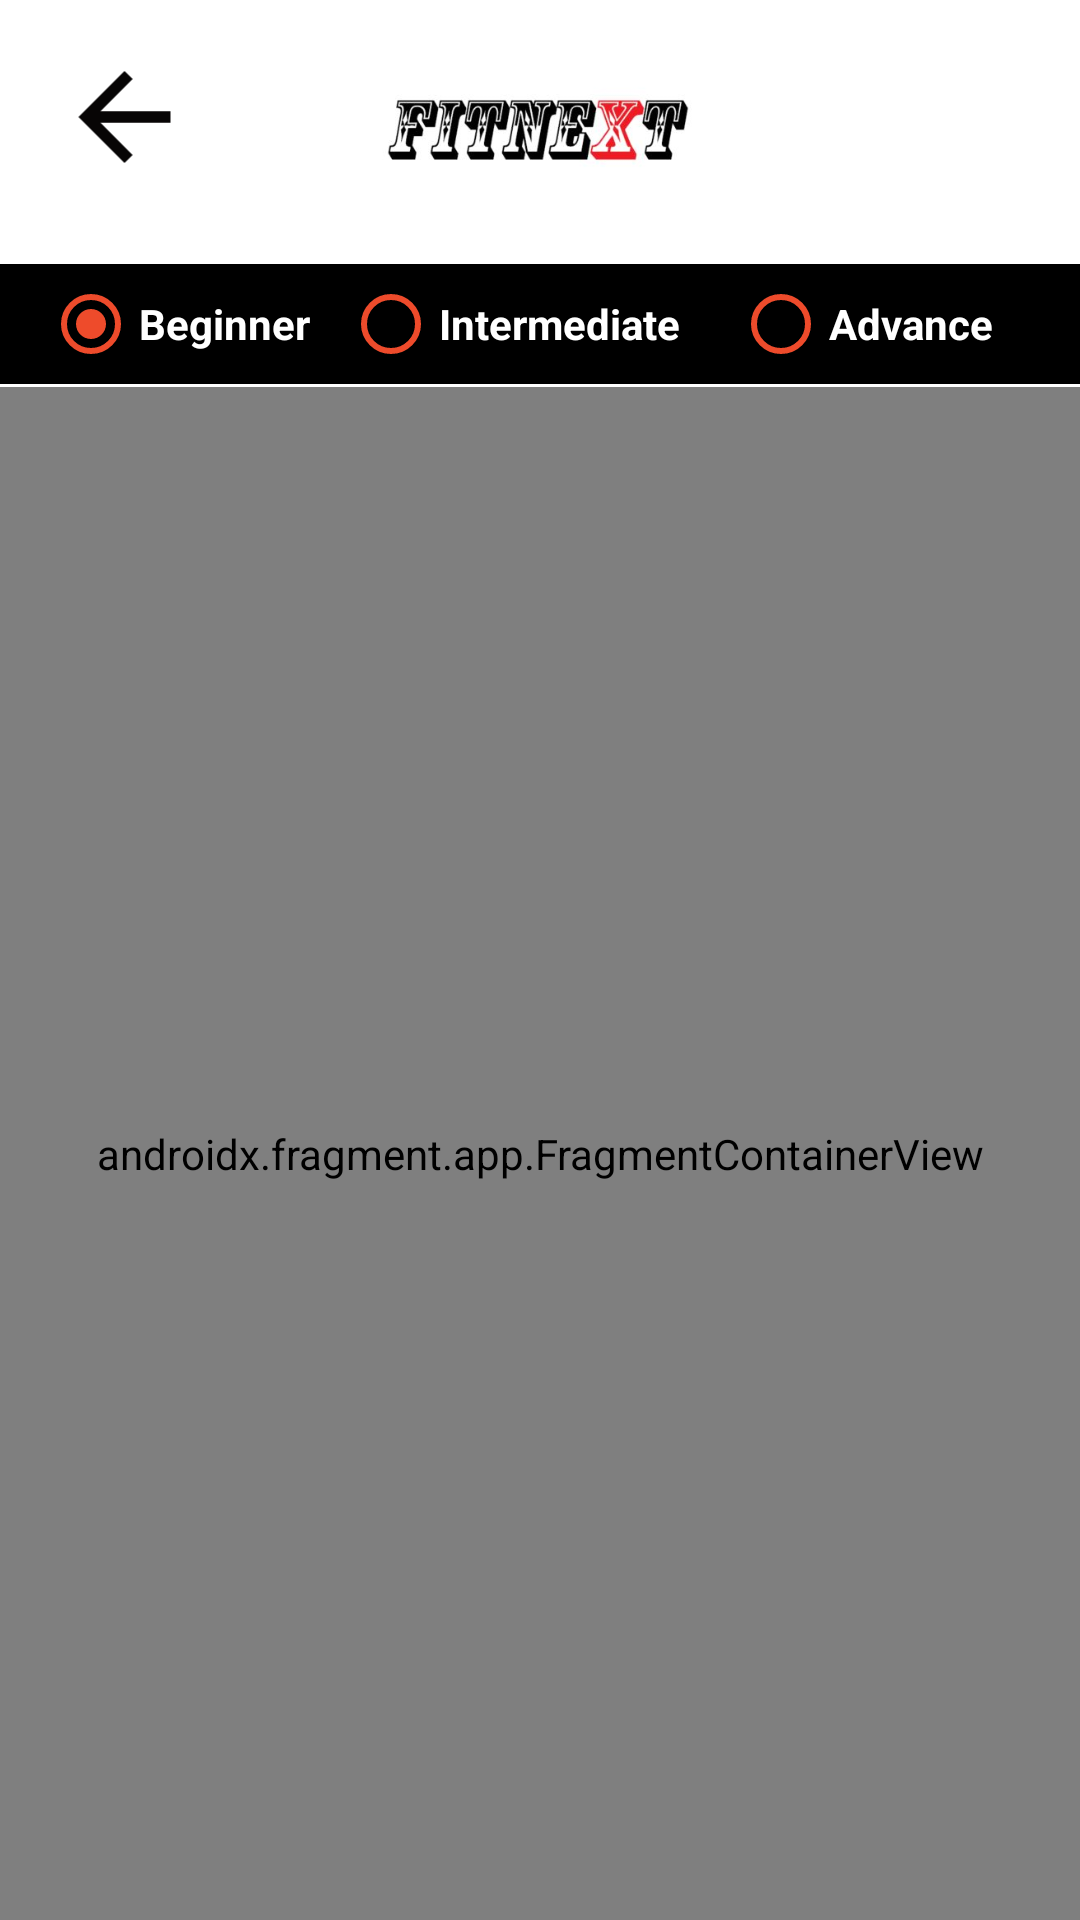

Icons on this 1080px×1920px Android screen, each with its box as rect(x1, y1, x2, y2):
Back: rect(78, 71, 171, 163)
